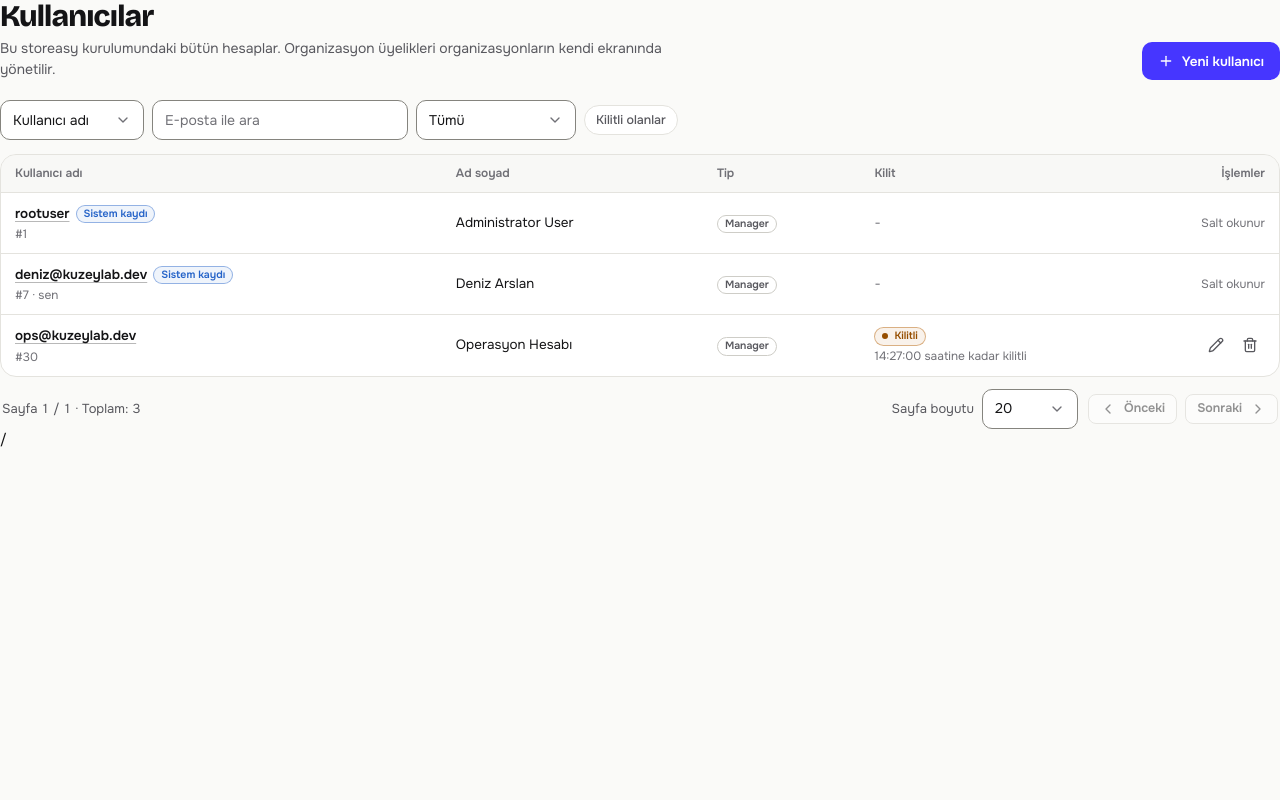
it: UsersPage › deletes a user after the confirmation
Step 1. Click the button named "Sil: ops@kuzeylab.dev" → [1250, 345], box [1235,330,1265,360]
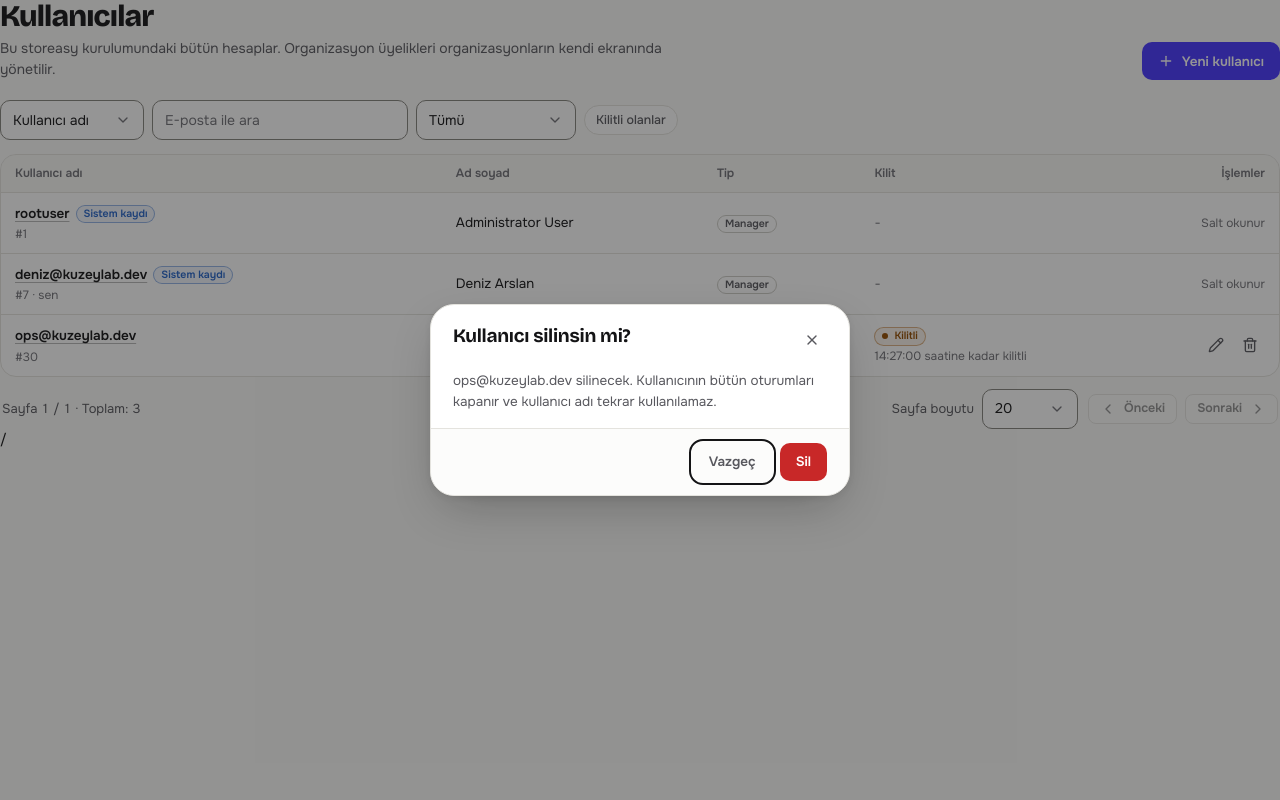
Expected: the text "ops@kuzeylab.dev silinecek" is shown, [453,372,814,410]
Step 2. Click the button "Sil" → [803, 462], box [780,443,827,481]
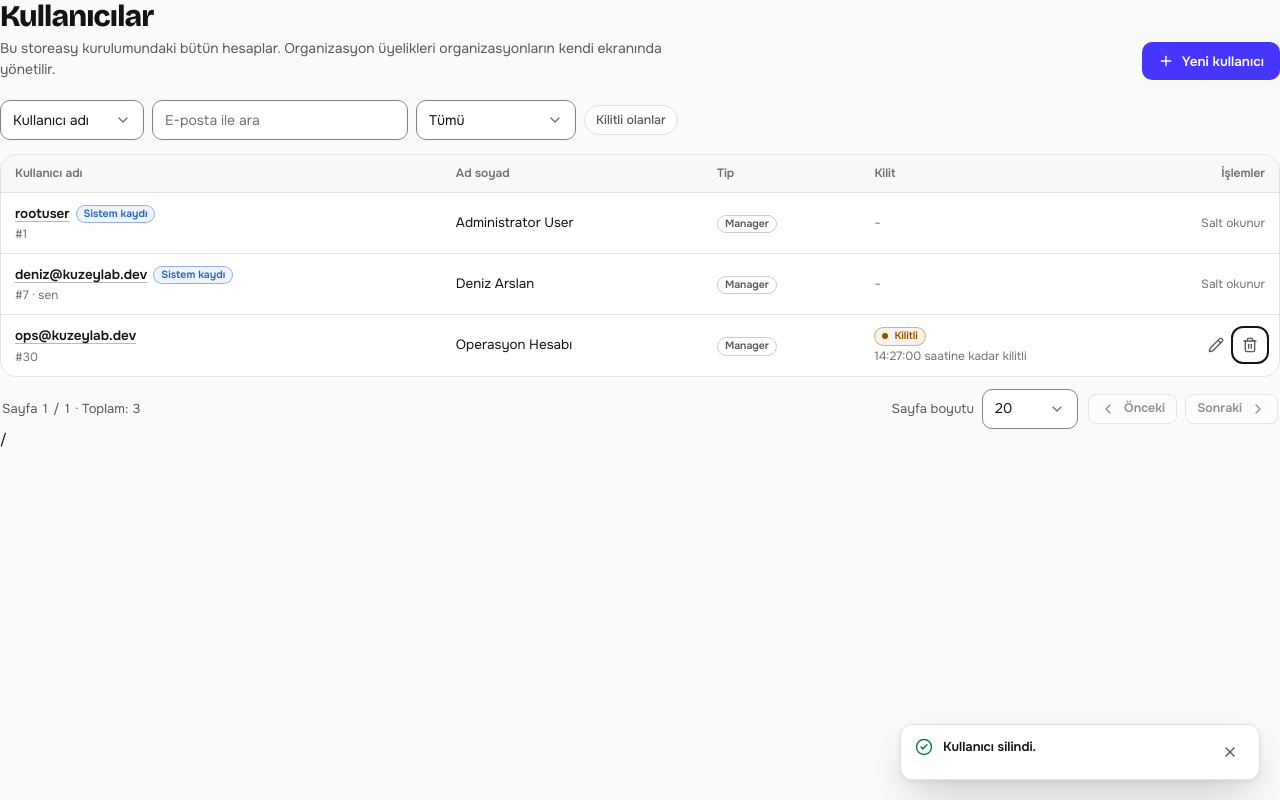
Expected: the text "Kullanıcı silindi." is shown, [943,738,1036,755]
